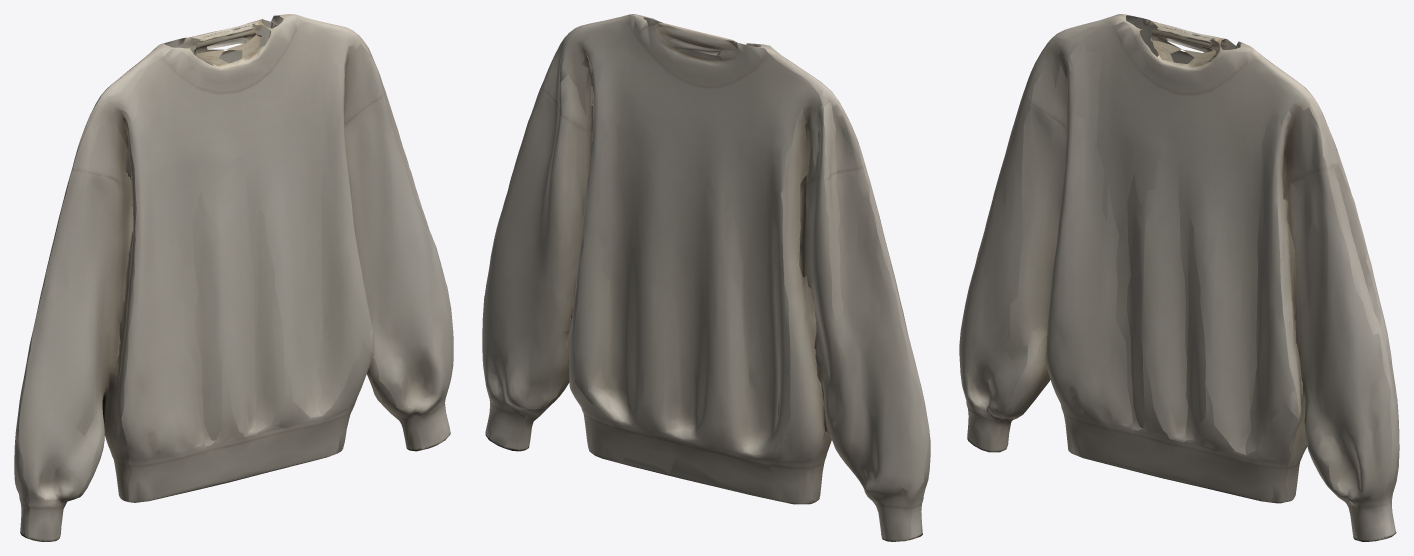
File: oat-product.glb
The picture shows the model from 3 angles, left to right: view 1: azimuth 30°, elevation 25°; view 2: azimuth 150°, elevation 25°; view 3: azimuth 330°, elevation 25°; orthographic projection.
Visible parts, largest first — view 1: geometry_0; view 2: geometry_0; view 3: geometry_0.
Boxes of the visible parts, x1,y1,x2,y2 form: geometry_0: [14, 14, 453, 541]; geometry_0: [482, 14, 930, 541]; geometry_0: [959, 14, 1399, 541].
Size of the model in its own units: 0.7042 by 0.705 by 0.0895.
1 material, 1 textured.
